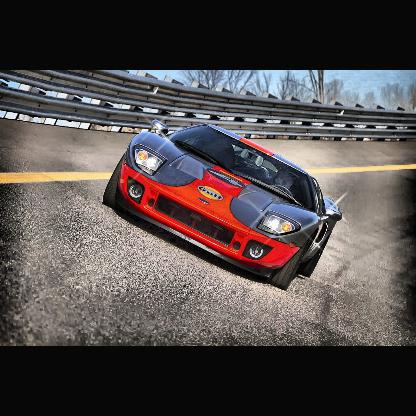Ford GT Coupe 2006: (103, 120, 341, 290)
